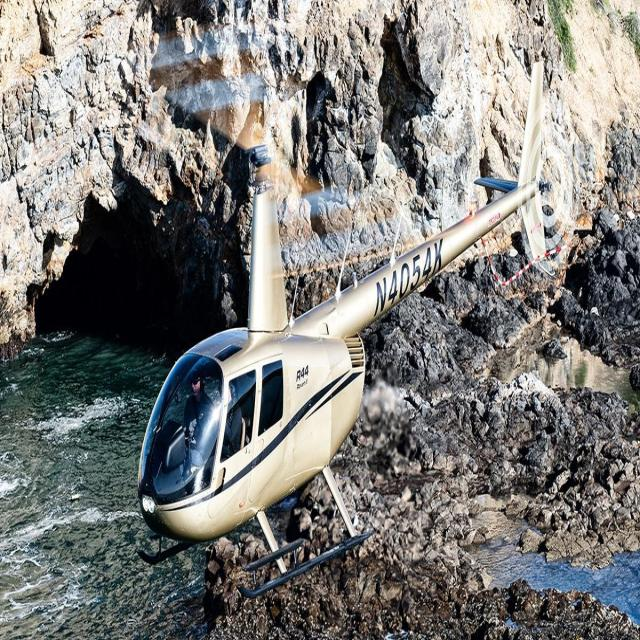CIV_HELO: (135, 57, 550, 600)
